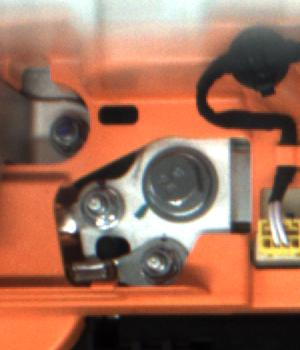nut_b: (134, 146, 212, 218)
